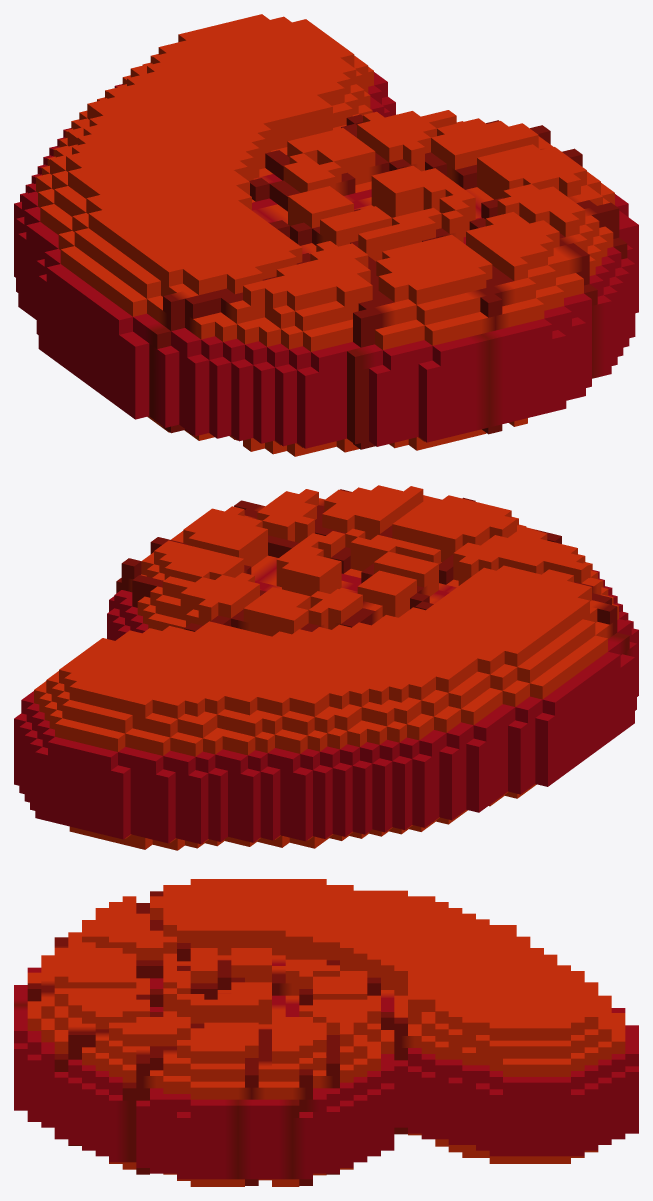
The model's file is LifeShell.fbx.
The picture shows the model from 3 angles, top to bottom: view 1: azimuth 30°, elevation 25°; view 2: azimuth 150°, elevation 25°; view 3: azimuth 270°, elevation 25°; orthographic projection. The views are drawn at different scales.
Visible parts, largest first — view 1: LifeShell; view 2: LifeShell; view 3: LifeShell.
Part boxes in pixels (box(x1,y1,x2,y2)): LifeShell: box(14, 14, 638, 456); LifeShell: box(14, 485, 638, 850); LifeShell: box(14, 879, 638, 1186).
Bounding box in the file's own units: 36 × 11 × 46.
1 material, 1 textured.
